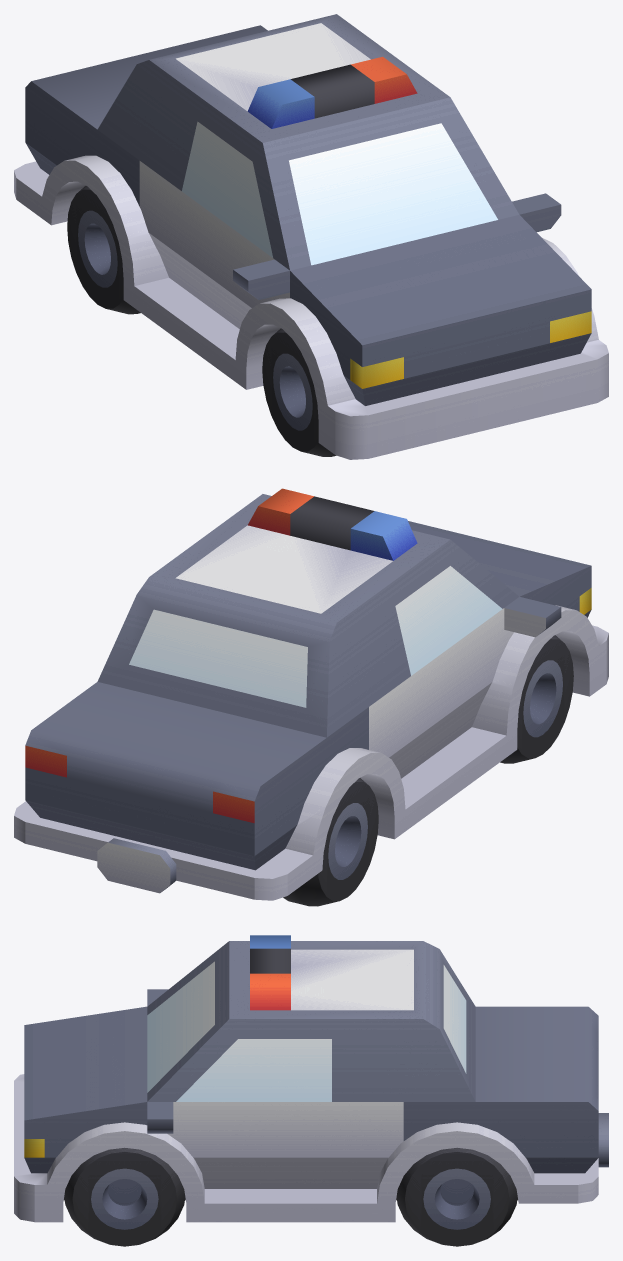
Rendered from TestCar.glb.
The picture shows the model from 3 angles, top to bottom: view 1: azimuth 30°, elevation 25°; view 2: azimuth 150°, elevation 25°; view 3: azimuth 270°, elevation 25°; orthographic projection. The views are drawn at different scales.
Visible parts, largest first — view 1: wheel-back-right; view 2: wheel-back-right; view 3: wheel-back-right.
Part boxes in pixels (x1,y1,x2,y2): wheel-back-right: (14,14,608,459); wheel-back-right: (14,488,608,906); wheel-back-right: (14,935,608,1246).
Bounding box in the file's own units: 1.5 × 1.3 × 2.9.
Materials: 1 (1 with a texture image).
